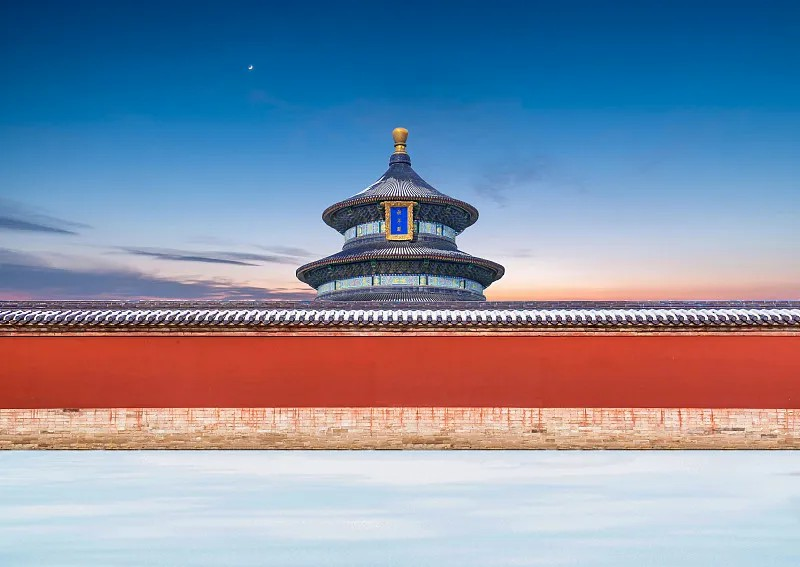Heaven: (296, 127, 504, 304)
